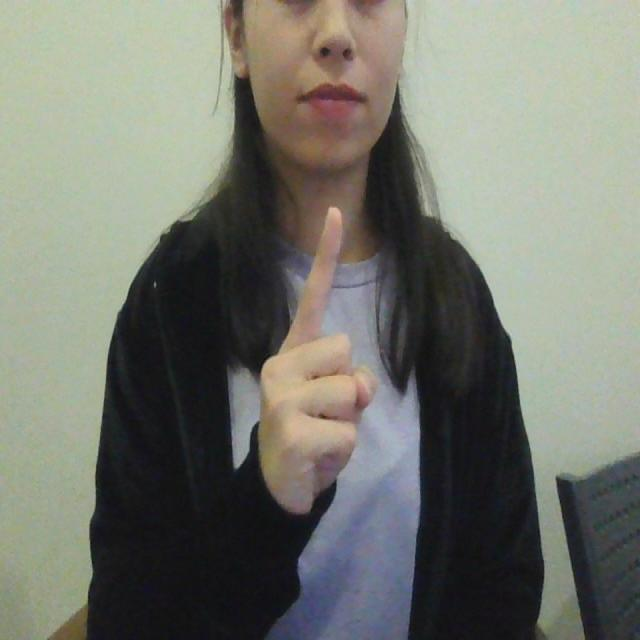Hayir: (254, 180, 393, 506)
